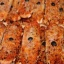olives: (49, 40, 59, 50), (27, 35, 35, 44), (58, 5, 64, 16), (7, 35, 14, 43), (49, 1, 57, 8), (35, 1, 42, 7)
pizza: (1, 1, 63, 64)
